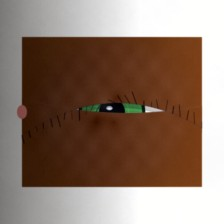pinguecula_lesion: (39, 93, 82, 128)
